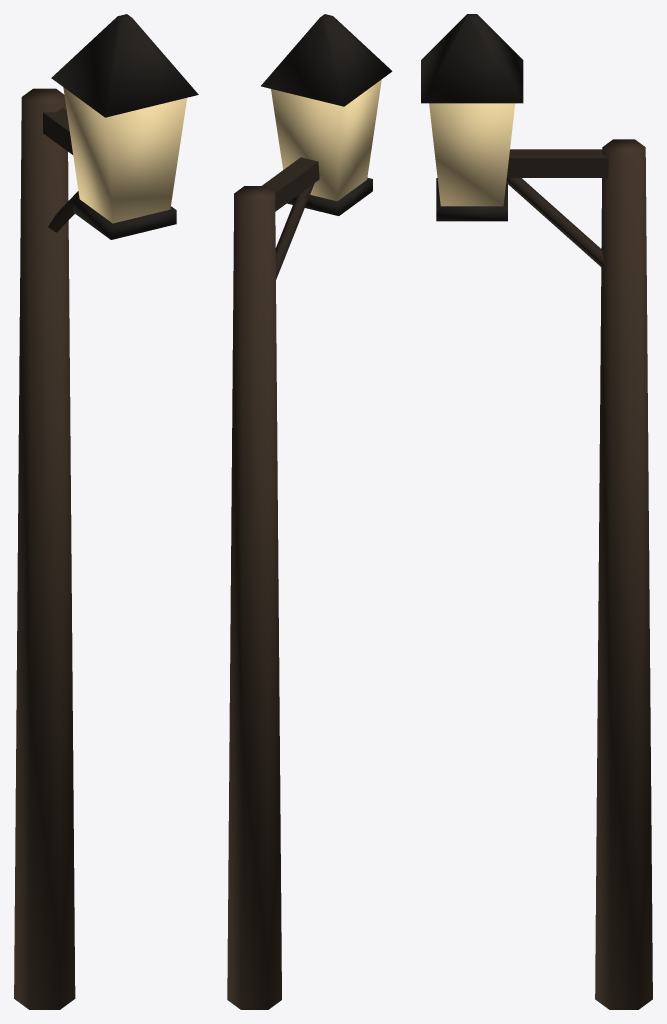
File: lantern.glb
The picture shows the model from 3 angles, left to right: view 1: azimuth 30°, elevation 25°; view 2: azimuth 150°, elevation 25°; view 3: azimuth 270°, elevation 25°; orthographic projection. The views are drawn at different scales.
Visible parts, largest first — view 1: Cone, Cone.001, Cone.002, Cone.003, Cube, Cylinder; view 2: Cone, Cone.001, Cone.002, Cube, Cone.003, Cylinder; view 3: Cone, Cone.001, Cone.002, Cube, Cylinder, Cone.003.
Boxes of the visible parts, left/top/right/bottom form: Cone: left=14, top=88, right=75, bottom=1009; Cone.001: left=63, top=87, right=186, bottom=223; Cone.002: left=51, top=14, right=198, bottom=117; Cone.003: left=73, top=197, right=176, bottom=239; Cube: left=43, top=107, right=72, bottom=154; Cylinder: left=48, top=191, right=79, bottom=232; Cone: left=227, top=186, right=281, bottom=1009; Cone.001: left=271, top=79, right=381, bottom=201; Cone.002: left=261, top=14, right=392, bottom=106; Cube: left=262, top=157, right=319, bottom=211; Cone.003: left=287, top=177, right=372, bottom=215; Cylinder: left=275, top=183, right=314, bottom=279; Cone: left=595, top=139, right=652, bottom=1009; Cone.001: left=429, top=103, right=515, bottom=206; Cone.002: left=421, top=14, right=523, bottom=103; Cube: left=507, top=149, right=608, bottom=177; Cylinder: left=506, top=178, right=605, bottom=267; Cone.003: left=436, top=178, right=507, bottom=221.
Bounding box in the file's own units: 0.2828 × 3 × 0.6414.
